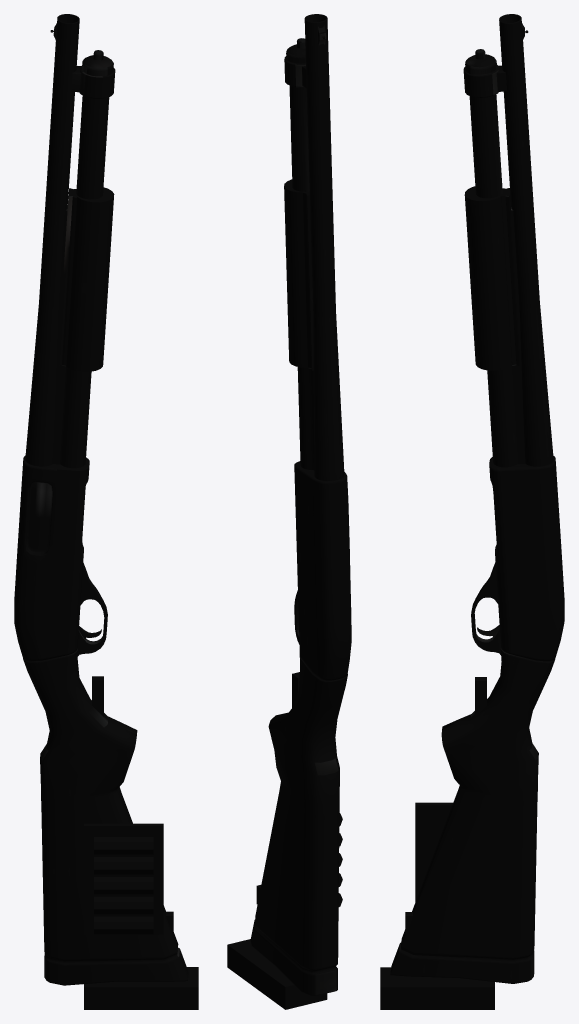
File: Rem870__RecoilPad_Rubber__ShellHolder_Butt__Stock_870_Folding.fbx
The picture shows the model from 3 angles, left to right: view 1: azimuth 90°, elevation 25°; view 2: azimuth 210°, elevation 25°; view 3: azimuth 270°, elevation 25°; orthographic projection.
Visible parts, largest first — view 1: asset_Rem870.001; view 2: asset_Rem870.001; view 3: asset_Rem870.001.
Part boxes in pixels (x1,y1,x2,y2): asset_Rem870.001: (14,14,198,1009); asset_Rem870.001: (227,14,351,1009); asset_Rem870.001: (380,14,564,1009).
Bounding box in the file's own units: 0.0429 × 0.651 × 0.1108.
